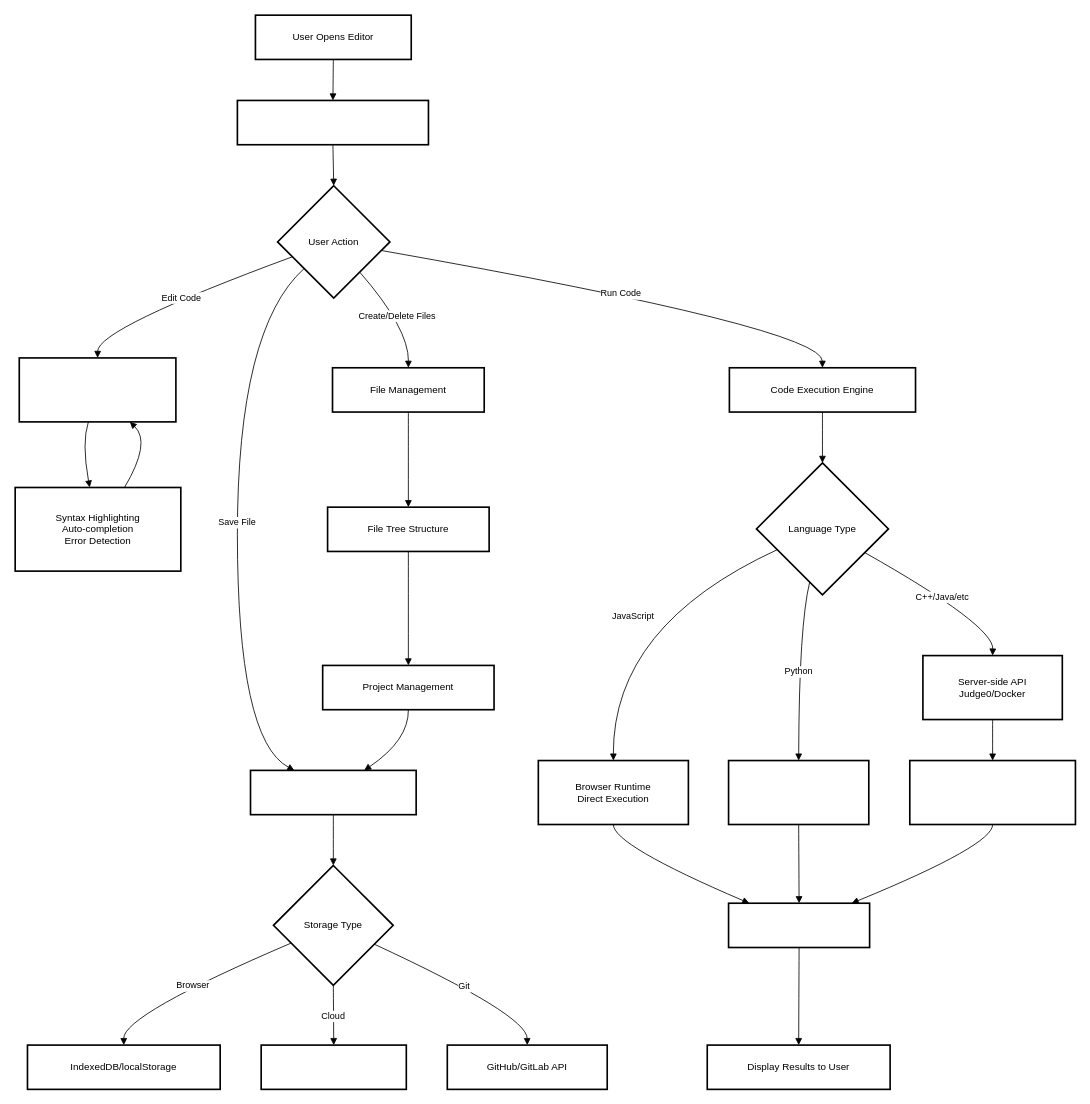
Some shapes in this 1090 by 1104 pixel diagram are drawn without their labels. Each missing label, with the centre of its shape:
"API Response Compilation Results" belongs at point 992,792.
"File Storage System" belongs at point 333,792.
"Monaco Editor Interface" belongs at point 332,122.
"Monaco Models In-Memory Editing" belongs at point 97,389.
"Output Console" belongs at point 798,925.
"Pyodide/Skulpt WASM Runtime" belongs at point 798,792.
"Server Database" belongs at point 333,1067.
